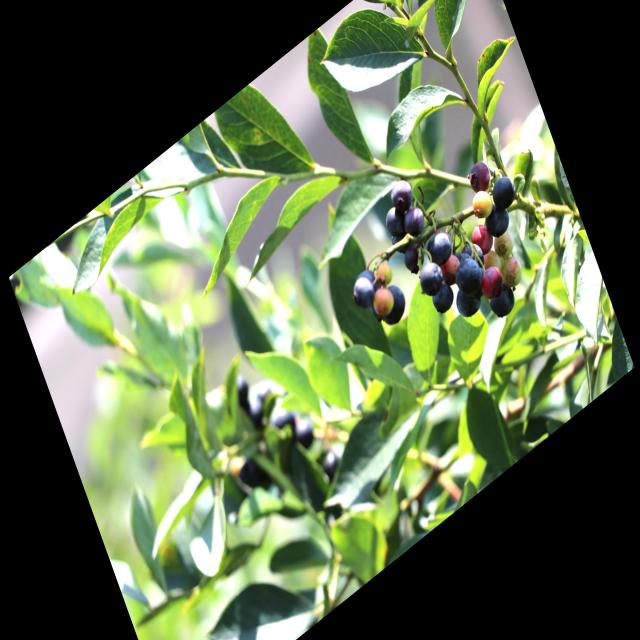blueberry: (451, 252, 485, 301), (376, 280, 409, 329), (423, 223, 456, 270), (487, 169, 519, 215), (486, 278, 518, 323), (398, 197, 429, 243), (388, 172, 418, 217), (482, 196, 512, 241), (416, 256, 446, 300), (453, 280, 483, 323), (428, 277, 457, 319), (350, 271, 377, 314), (400, 238, 427, 279), (465, 157, 492, 197), (383, 204, 407, 241), (464, 237, 487, 275)
blueberry-halfripe: (476, 260, 506, 304), (468, 218, 496, 260), (438, 250, 465, 290)
blueberry-unripe: (469, 184, 496, 225), (498, 252, 525, 292), (492, 225, 518, 264), (371, 282, 396, 321), (482, 244, 504, 280), (374, 258, 395, 290)
